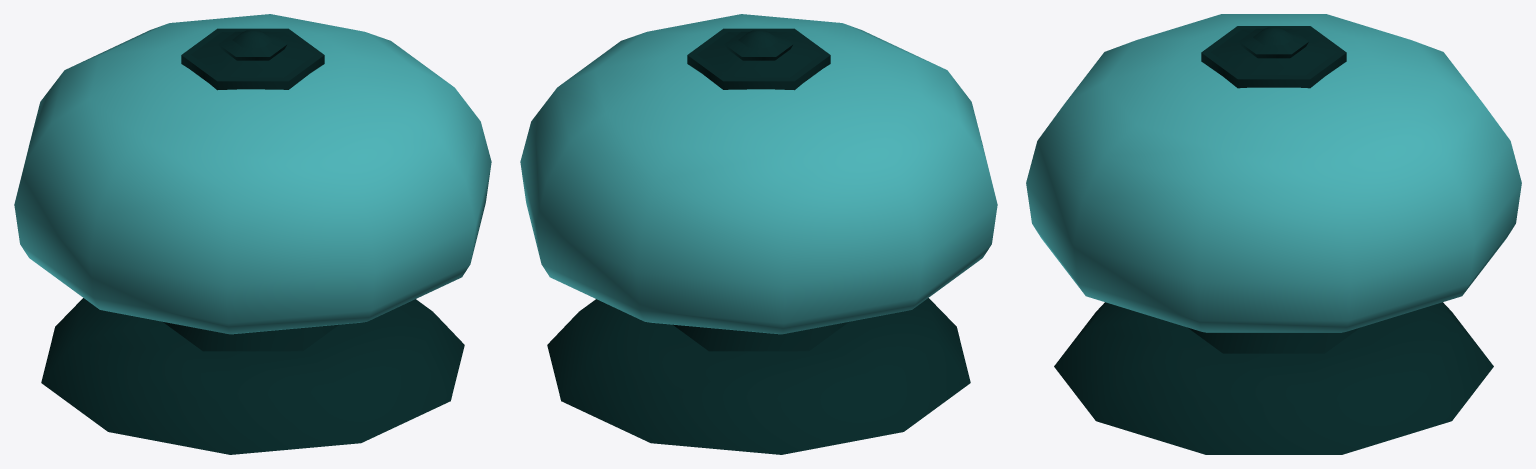
File: 133_desk_bell.glb
The picture shows the model from 3 angles, left to right: view 1: azimuth 30°, elevation 25°; view 2: azimuth 150°, elevation 25°; view 3: azimuth 270°, elevation 25°; orthographic projection.
Visible parts, largest first — view 1: top, base, body; view 2: top, base, body; view 3: top, base, body.
Part boxes in pixels (<box>): top: <box>14,14,491,334</box>; base: <box>41,298,464,454</box>; body: <box>163,28,338,351</box>; top: <box>520,14,997,334</box>; base: <box>547,298,970,454</box>; body: <box>673,28,848,351</box>; top: <box>1026,14,1521,332</box>; base: <box>1054,302,1493,454</box>; body: <box>1187,26,1360,353</box>.
Size of the model in its own units: 0.3254 by 0.2572 by 0.3422.
